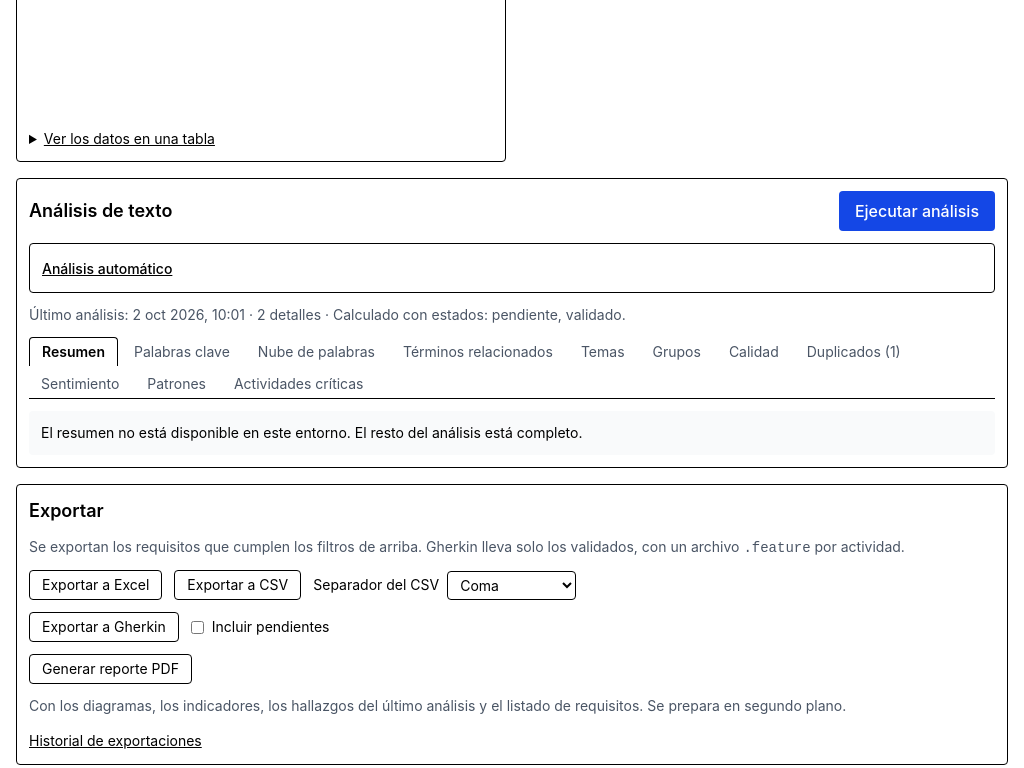
Scenario: sentimiento › sin malestar lo dice, y el tooltip escapa los nombres
(page scrolled)
What coordinates should you click on to do the following:
click the tab "Sentimiento"
I would click on:
 (80, 384)
Its box is [29,370,131,398].
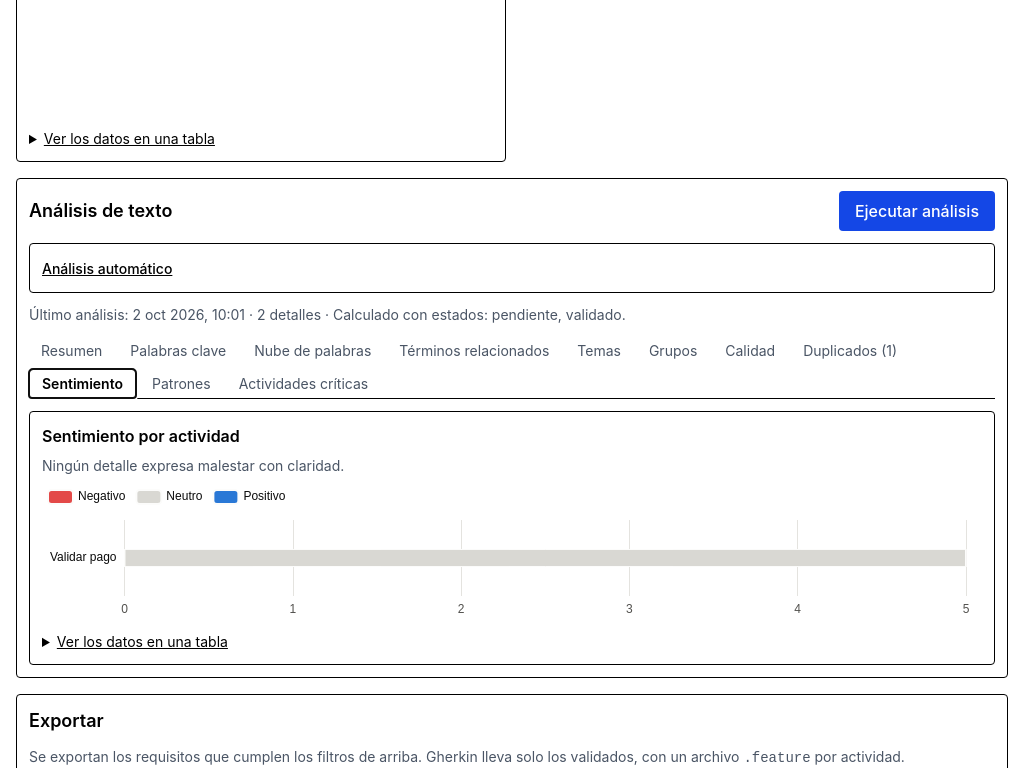
Now the text "Ningún detalle expresa malestar con claridad." is shown, box [42,457,344,474]
